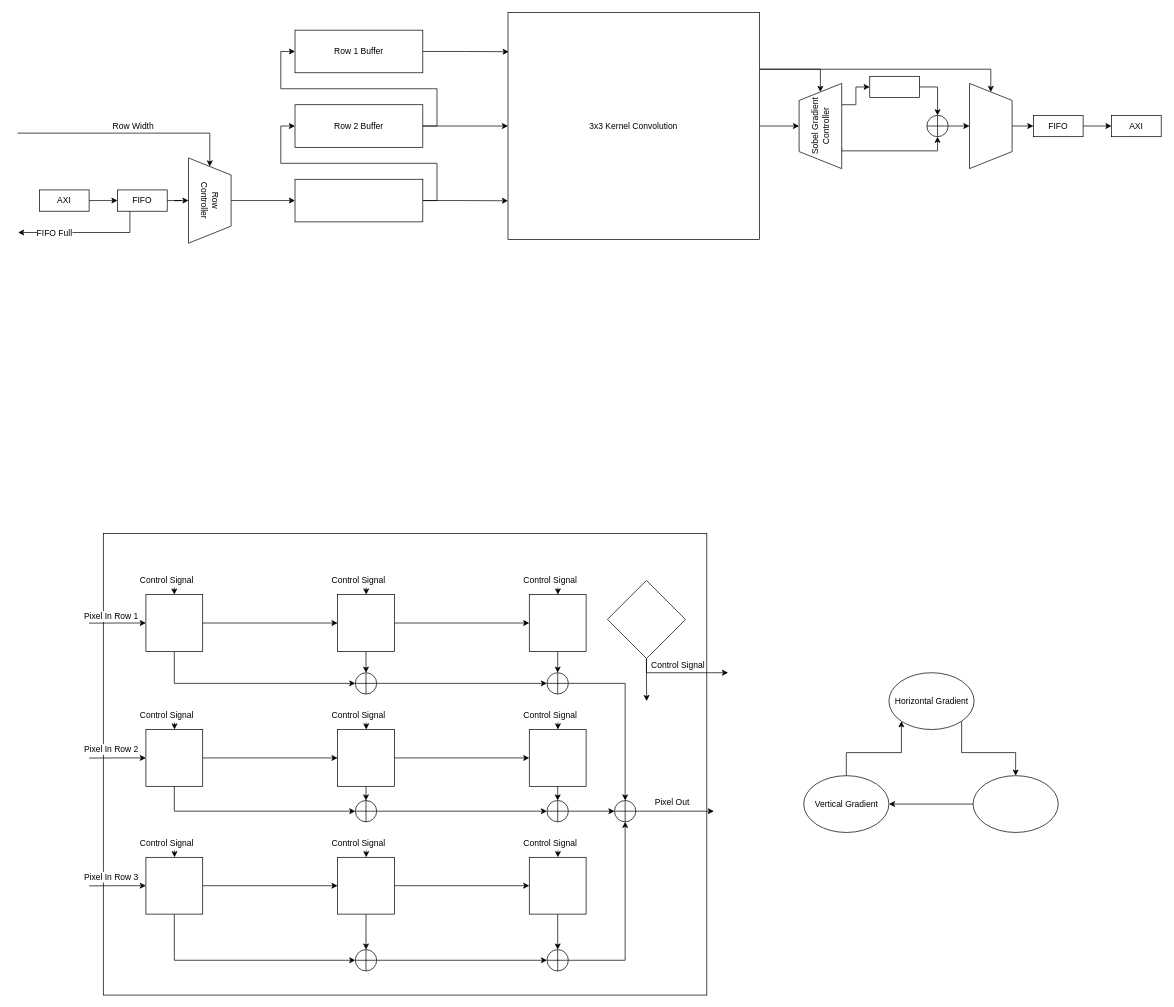
Image size: 1174x1007. Some labels were removed from this diagram. The shapes that lost their labels are listed below. From the top down, each one's centre as x and y in pixels, then its label:
At pixel 894 87: "Shift Register".
At pixel 990 126: "Sobel Output Controller".
At pixel 358 200: "Row 3 Buffer".
At pixel 646 619: "3x3 Kernel Convolution Controller".
At pixel 1015 803: "Shift".
